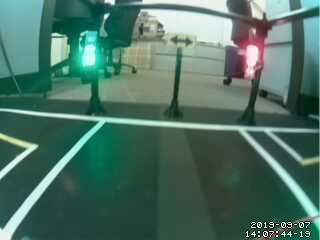Left_Right_sign: (166, 33, 199, 51)
Traffic_light_green: (75, 35, 101, 65)
Traffic_light_red: (243, 45, 265, 85)
